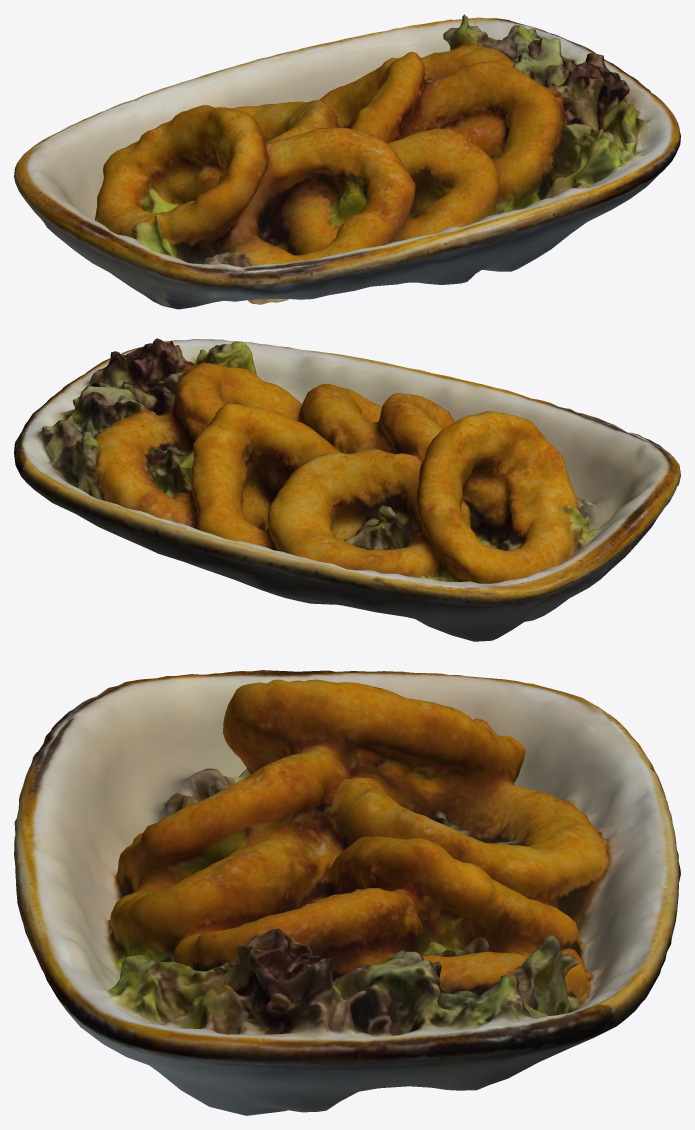
Rendered from onionRings_1752072011416.glb.
3 views of the same model, one above another, from view 1: azimuth 30°, elevation 25°; view 2: azimuth 150°, elevation 25°; view 3: azimuth 270°, elevation 25° (orthographic). The views are drawn at different scales.
Visible parts, largest first — view 1: 3DModel_Custom; view 2: 3DModel_Custom; view 3: 3DModel_Custom.
Boxes of the visible parts, x1,y1,x2,y2 form: 3DModel_Custom: [14, 14, 680, 309]; 3DModel_Custom: [14, 338, 680, 641]; 3DModel_Custom: [14, 670, 680, 1115].
Size of the model in its own units: 0.1852 by 0.056 by 0.1319.
Materials: 1 (1 with a texture image).
